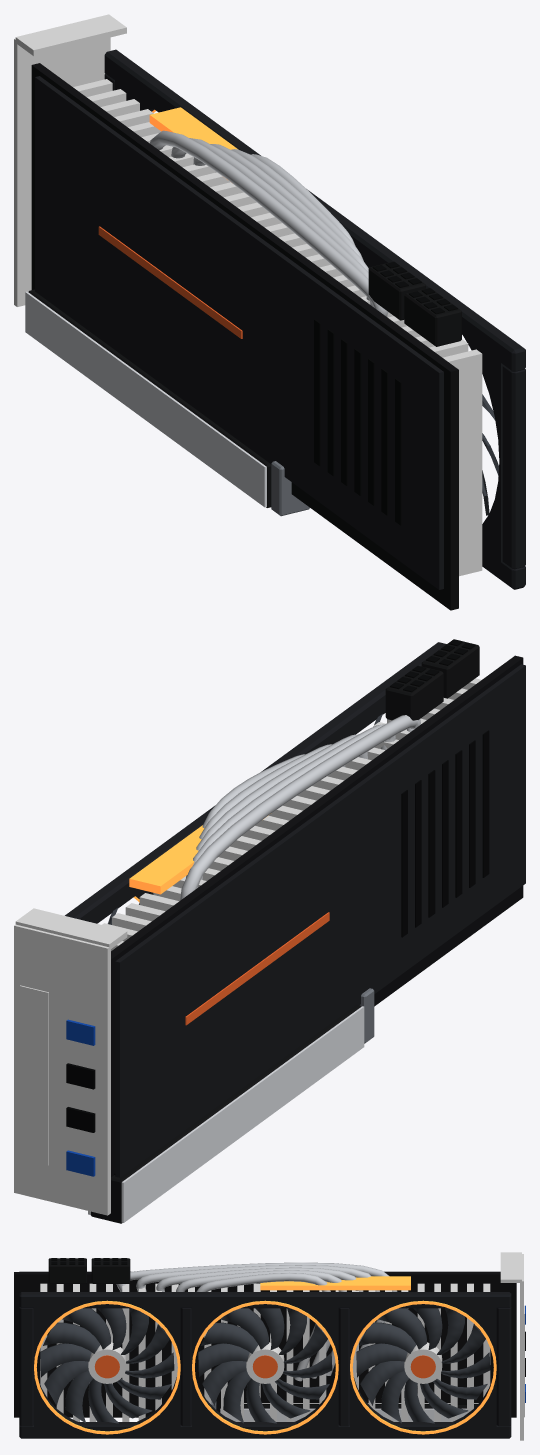
Rendered from hwm_gpu_rtx4090.glb.
3 views of the same model, one above another, from view 1: azimuth 30°, elevation 25°; view 2: azimuth 150°, elevation 25°; view 3: azimuth 270°, elevation 25° (orthographic). The views are drawn at different scales.
Visible parts, largest first — view 1: Card_0, Slot_0; view 2: Card_0, Slot_0; view 3: Card_0, Rotor_X_2, Rotor_X_0, Rotor_X_1, Slot_0.
Part boxes in pixels (x1,y1,x2,y2): Card_0: (14, 14, 525, 610); Slot_0: (25, 289, 309, 516); Card_0: (14, 639, 525, 1215); Slot_0: (88, 988, 374, 1223); Card_0: (14, 1252, 525, 1440); Rotor_X_2: (40, 1308, 174, 1423); Rotor_X_0: (356, 1308, 490, 1423); Rotor_X_1: (198, 1308, 332, 1423); Slot_0: (211, 1401, 477, 1421).
Bounding box in the file's own units: 0.0375 × 0.1076 × 0.2852.
